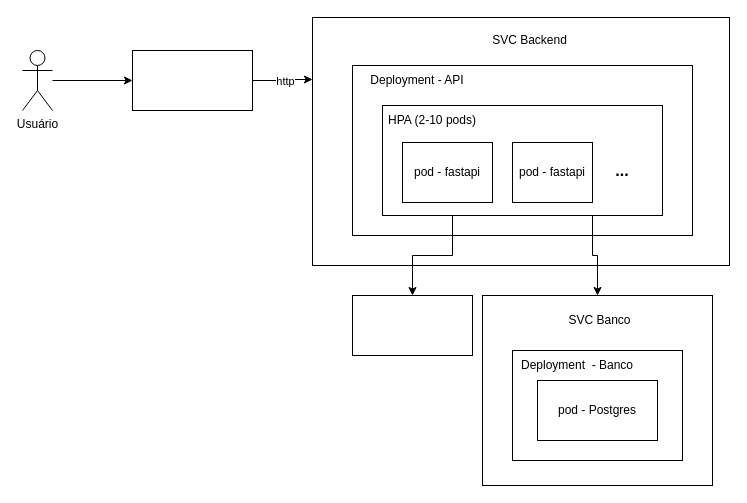
The diagram is 747 pixels wide and 503 high, and some of its shapes have lost their labels. The centre of each missing label's shape, as x and y in pixels:
Gateway de pagamento: [412,325]
Totem: [192,80]
